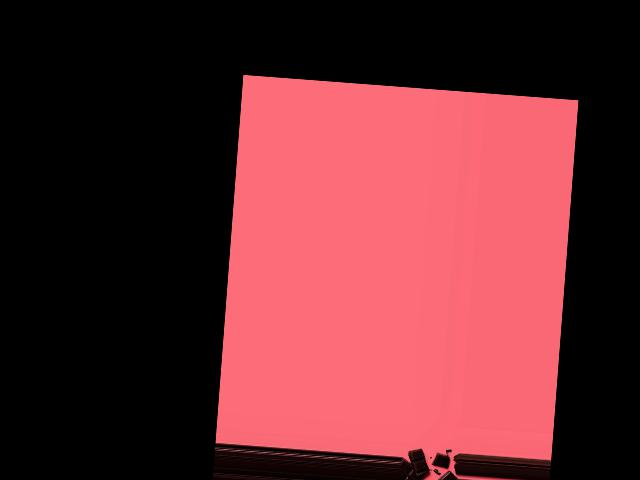chocolate: (400, 451, 459, 480)
